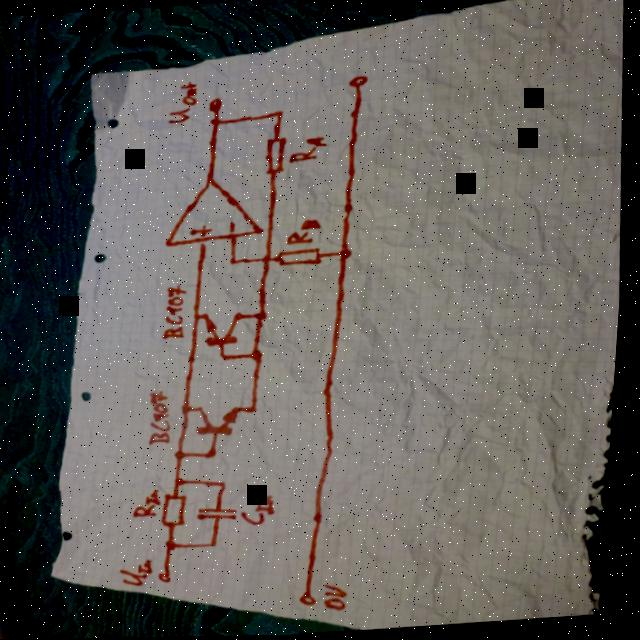capacitor: (202, 503, 246, 527)
junction: (252, 349, 270, 364), (255, 310, 275, 323), (169, 539, 187, 553), (339, 248, 358, 261), (207, 449, 226, 461), (176, 449, 193, 462), (176, 477, 194, 489), (207, 117, 225, 129), (251, 402, 266, 415), (229, 255, 243, 268), (261, 255, 276, 267), (273, 109, 288, 121), (221, 352, 235, 364), (184, 404, 198, 416), (213, 540, 228, 551), (222, 479, 236, 490), (195, 312, 206, 321)
resistor: (165, 491, 197, 530), (262, 137, 292, 178), (278, 247, 328, 269)
terminal: (346, 74, 372, 91), (206, 97, 226, 115), (304, 594, 326, 609), (163, 572, 181, 585)
text: (162, 284, 194, 341), (164, 81, 203, 127), (149, 390, 179, 447), (244, 494, 285, 528), (287, 136, 332, 166), (124, 558, 163, 590), (286, 218, 326, 248), (136, 488, 169, 520), (329, 582, 358, 614)
transistor: (198, 404, 250, 438), (204, 311, 250, 348)
